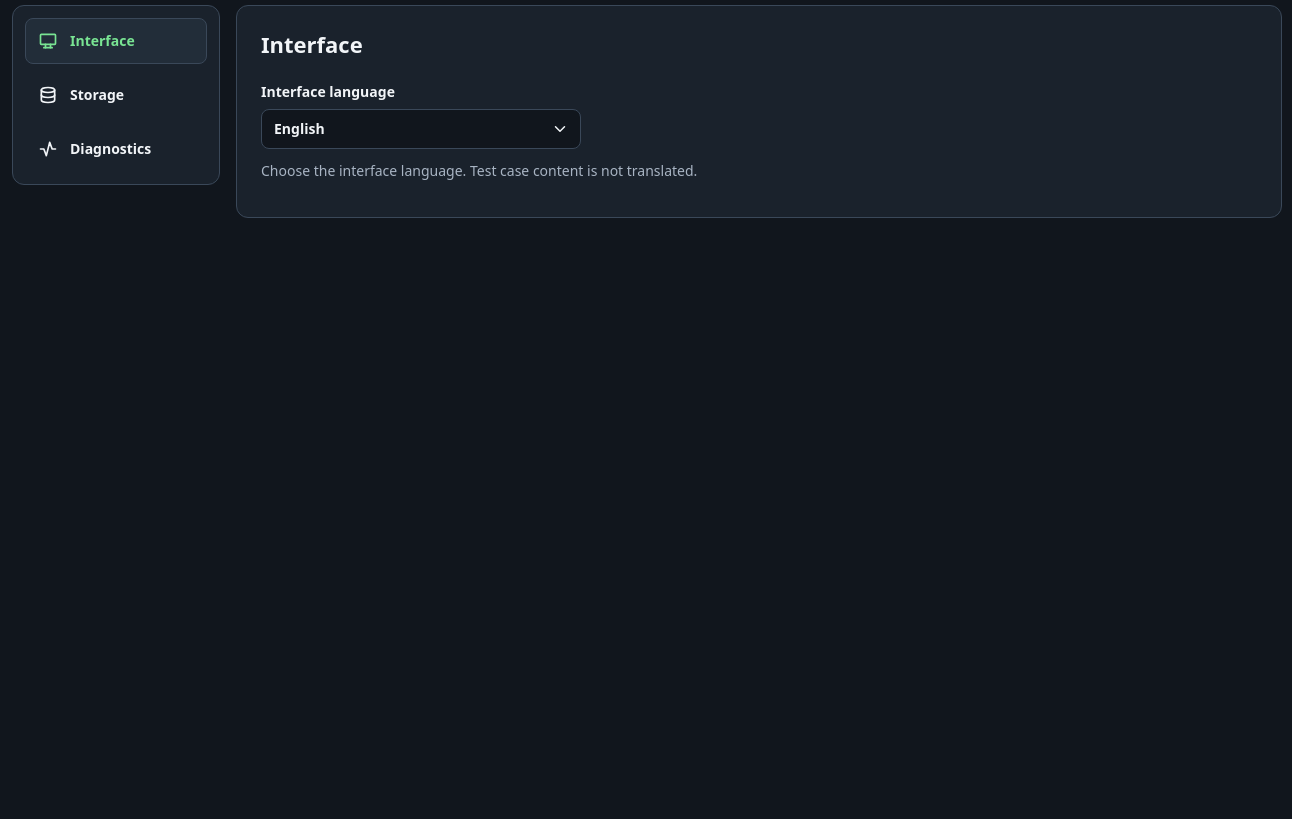
Test: diagnostics show actual checks, unknown OCR and retry errors in English
The image size is (1292, 819).
Click the button "Diagnostics": [116, 149] box [25,126,207,172]
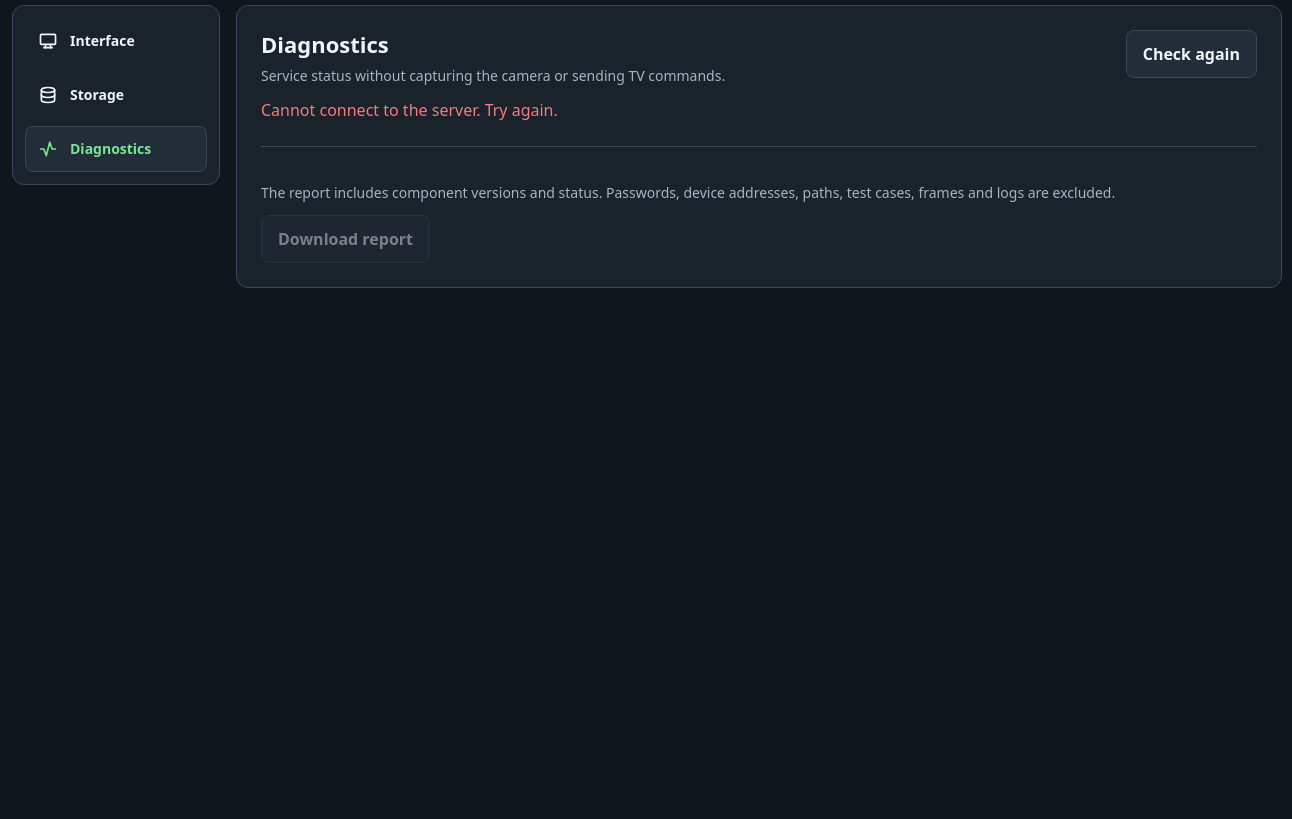
Now the message "Cannot connect to the server. Try again." is shown, box [261,99,558,121]
Click the button "Check again": [1191, 54] box [1126,30,1257,78]
(page scrolled)
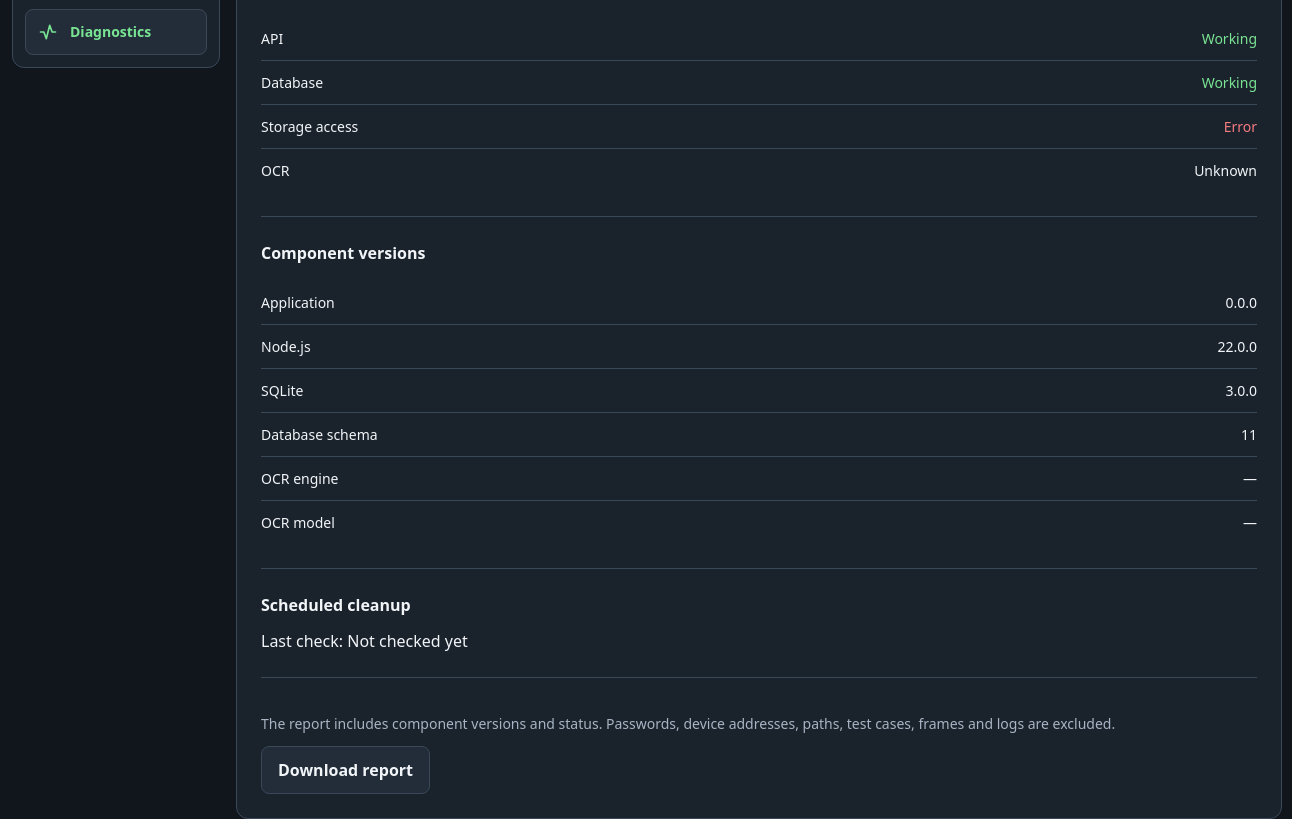
Now the text "Unknown" is shown, box [1194,161,1257,180]
Now the button "Download report" is enabled, box [261,746,430,794]
